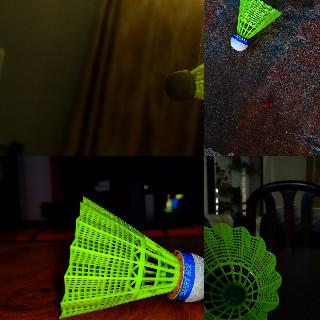shuttlecock: (59, 194, 203, 319), (204, 223, 282, 319), (164, 44, 203, 112), (230, 0, 282, 51)
